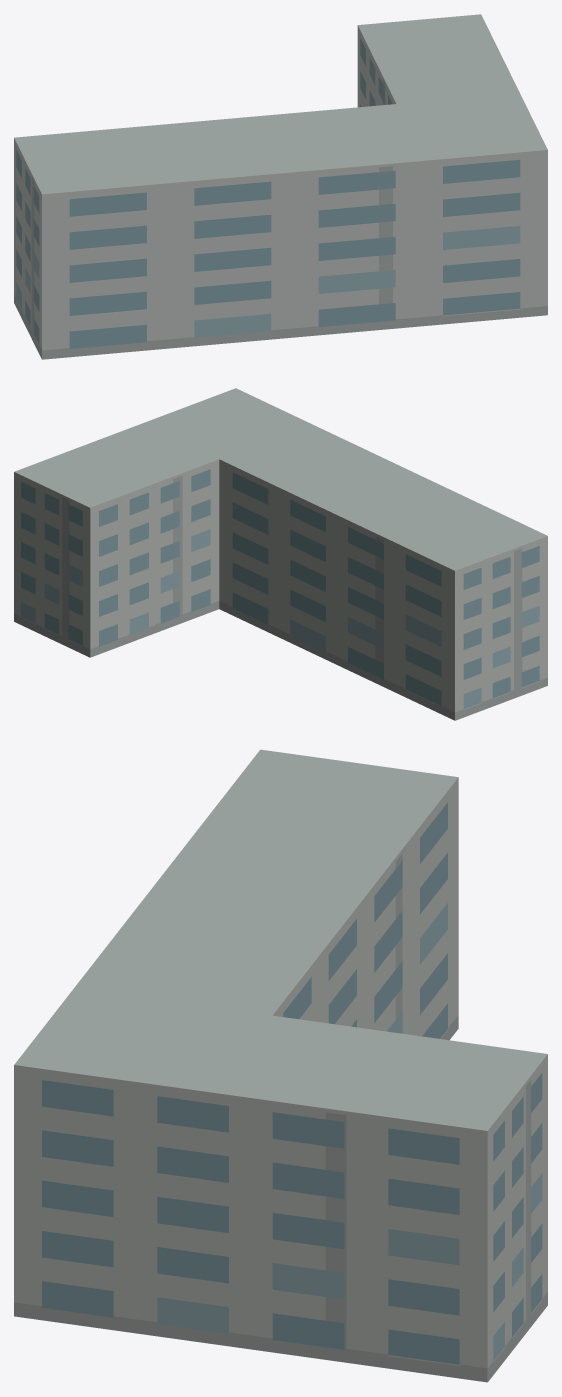
File: residential-b45ee909-9c56-467d-ac08-0b3183a3f55b.glb
3 renders of one model, top to bottom at view 1: azimuth 30°, elevation 25°; view 2: azimuth 150°, elevation 25°; view 3: azimuth 270°, elevation 25°, orthographic. The views are drawn at different scales.
Parts seen in each view (by area): view 1: residential-b45ee909-9c56-467d-ac08-0b3183a3f55b.tmp; view 2: residential-b45ee909-9c56-467d-ac08-0b3183a3f55b.tmp; view 3: residential-b45ee909-9c56-467d-ac08-0b3183a3f55b.tmp.
Boxes of the visible parts, bbox=[...] form: residential-b45ee909-9c56-467d-ac08-0b3183a3f55b.tmp: bbox=[14, 14, 547, 359]; residential-b45ee909-9c56-467d-ac08-0b3183a3f55b.tmp: bbox=[14, 388, 547, 720]; residential-b45ee909-9c56-467d-ac08-0b3183a3f55b.tmp: bbox=[14, 749, 547, 1382].
Size of the model in its own units: 49.63 by 15.25 by 29.36.
